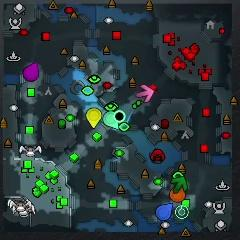p1: (156, 203, 172, 220)
p2: (104, 111, 118, 129)
p2Clone: (114, 110, 126, 122)
p3: (23, 62, 39, 81)
p4: (86, 108, 101, 128)
p5: (169, 188, 186, 202)
x1: (136, 84, 154, 102)
x4: (171, 176, 187, 193)
